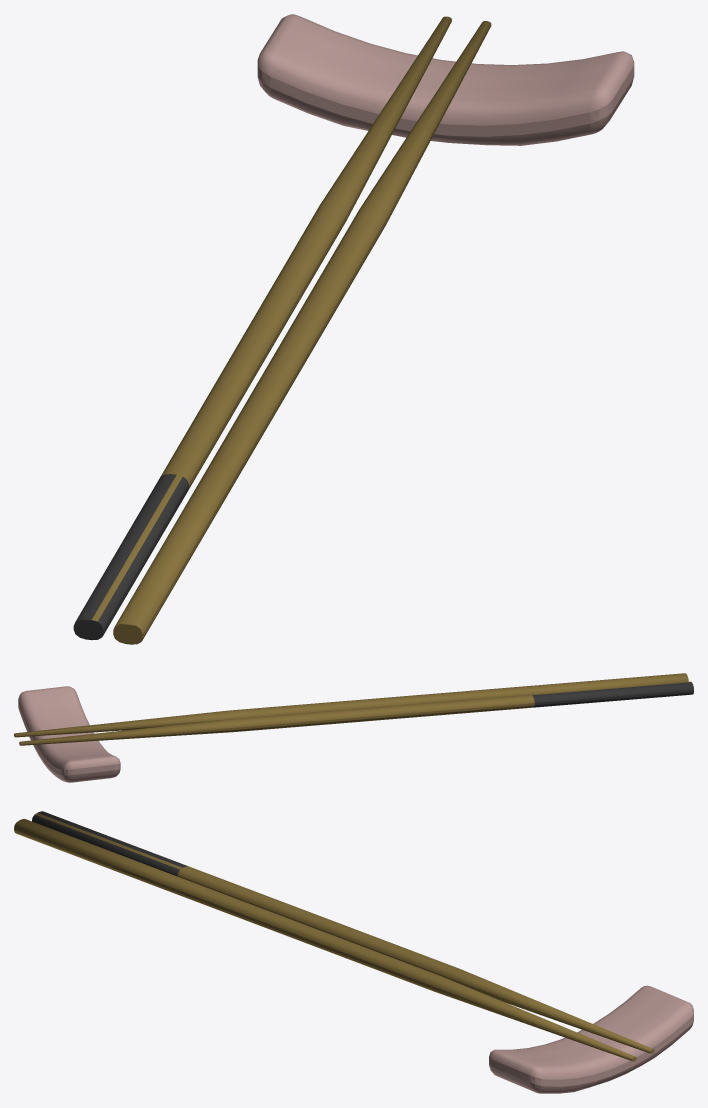
Rendered from Đũa.fbx.
3 views of the same model, one above another, from view 1: azimuth 30°, elevation 25°; view 2: azimuth 150°, elevation 25°; view 3: azimuth 270°, elevation 25° (orthographic). The views are drawn at different scales.
Parts seen in each view (by area): view 1: ChamferBox, ChamferBo1, ChamferBo0; view 2: ChamferBo1, ChamferBo0, ChamferBox; view 3: ChamferBo0, ChamferBox, ChamferBo1.
Boxes of the visible parts, <box> form: ChamferBox: <box>257,14,634,145</box>; ChamferBo1: <box>73,16,451,640</box>; ChamferBo0: <box>113,21,491,644</box>; ChamferBo1: <box>19,681,693,745</box>; ChamferBo0: <box>14,673,688,737</box>; ChamferBox: <box>18,686,120,782</box>; ChamferBo0: <box>14,819,636,1061</box>; ChamferBox: <box>489,985,693,1093</box>; ChamferBo1: <box>32,811,654,1053</box>.
Bounding box in the file's own units: 22855 × 1552 × 22674.
